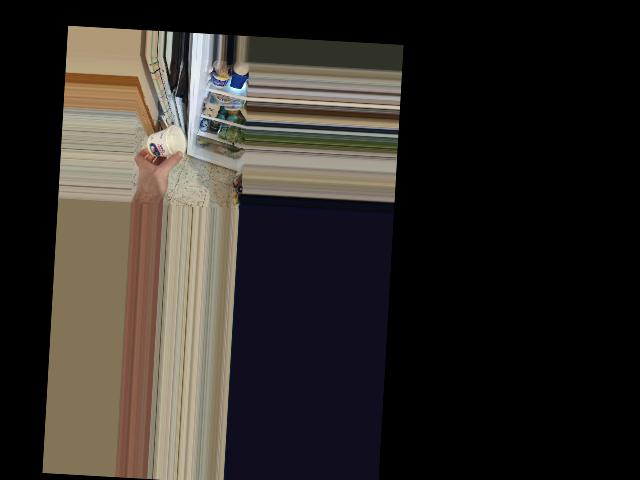cotage: (145, 121, 180, 161)
